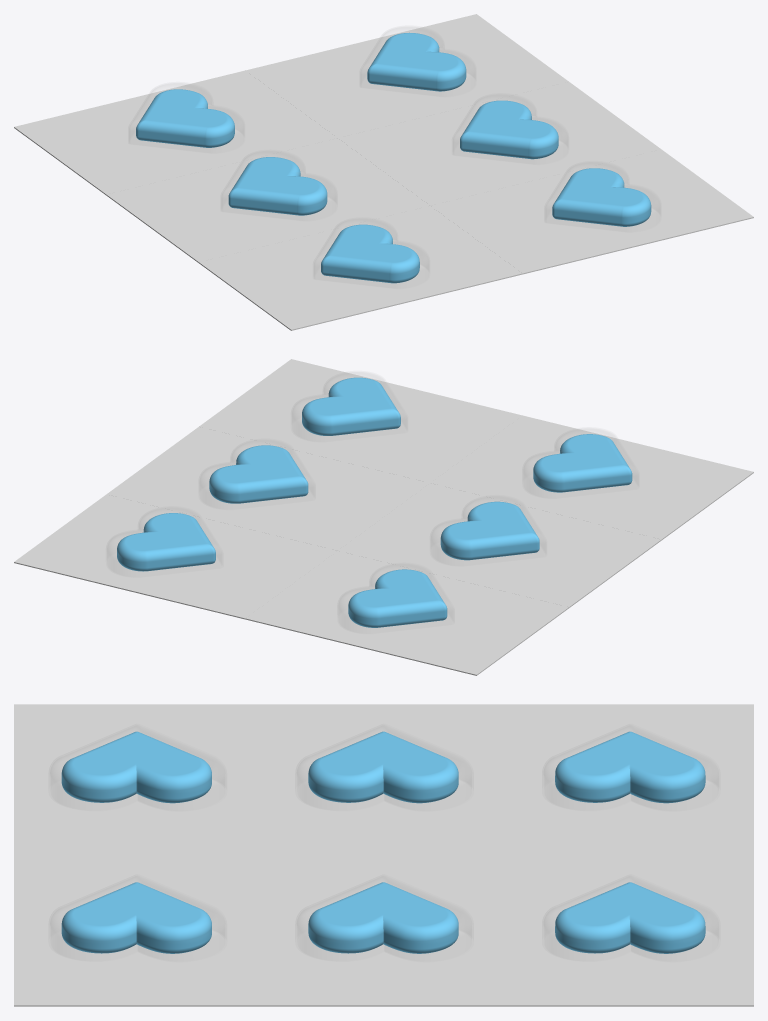
The model's file is Heart_Pill_2x3_Blue.glb.
3 views of the same model, one above another, from view 1: azimuth 30°, elevation 25°; view 2: azimuth 150°, elevation 25°; view 3: azimuth 270°, elevation 25° (orthographic). The views are drawn at different scales.
Visible parts, largest first — view 1: Heart_Pill_Base_2x3, Heart_Pill_2x3, Heart_Pill_Shell_2x3, Heart_Pill_Lid_2x3; view 2: Heart_Pill_Base_2x3, Heart_Pill_2x3, Heart_Pill_Shell_2x3, Heart_Pill_Lid_2x3; view 3: Heart_Pill_Base_2x3, Heart_Pill_2x3, Heart_Pill_Lid_2x3, Heart_Pill_Shell_2x3.
Part boxes in pixels (bbox=[...]): Heart_Pill_Base_2x3: bbox=[14, 14, 753, 330]; Heart_Pill_2x3: bbox=[136, 32, 651, 283]; Heart_Pill_Shell_2x3: bbox=[129, 26, 660, 277]; Heart_Pill_Lid_2x3: bbox=[128, 51, 661, 289]; Heart_Pill_Base_2x3: bbox=[14, 359, 753, 675]; Heart_Pill_2x3: bbox=[117, 377, 632, 627]; Heart_Pill_Shell_2x3: bbox=[107, 372, 638, 621]; Heart_Pill_Lid_2x3: bbox=[106, 397, 639, 634]; Heart_Pill_Base_2x3: bbox=[14, 704, 753, 1006]; Heart_Pill_2x3: bbox=[61, 731, 705, 953]; Heart_Pill_Lid_2x3: bbox=[48, 779, 720, 962]; Heart_Pill_Shell_2x3: bbox=[50, 725, 718, 939].
Bounding box in the file's own units: 6.8 × 0.336 × 7.06.
